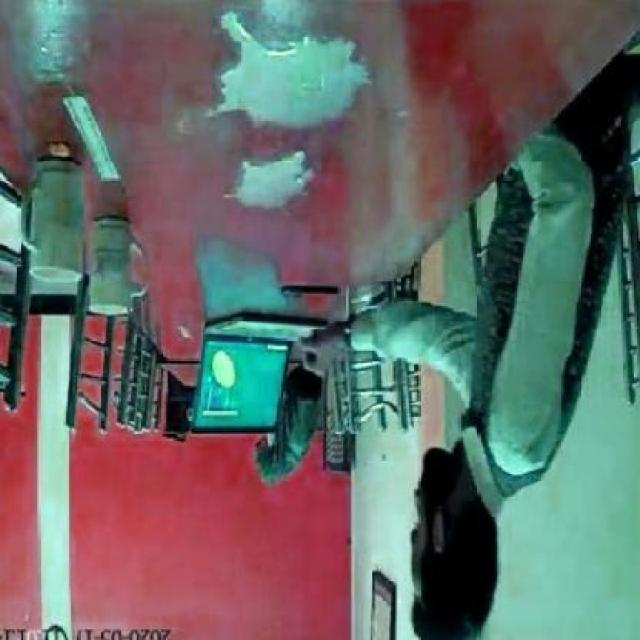spillage: (213, 13, 367, 129), (234, 151, 315, 209)
